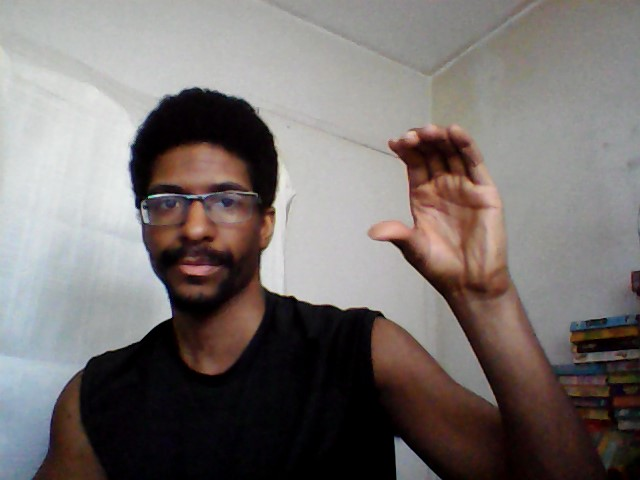c: (361, 112, 516, 292)
